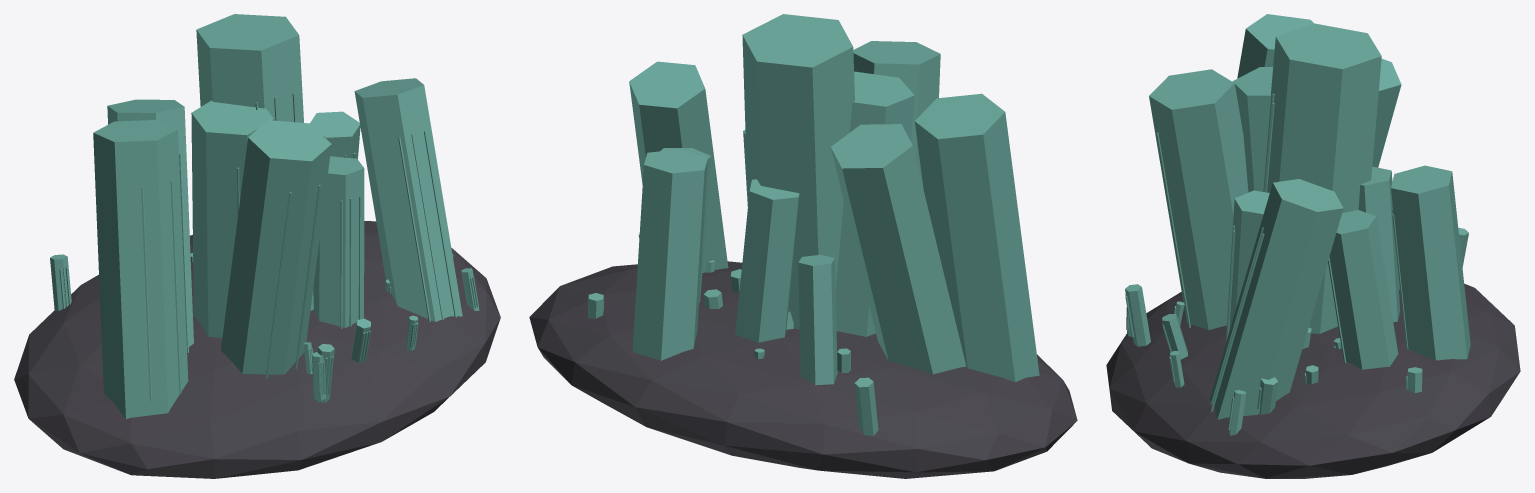
File: apatite.glb
The picture shows the model from 3 angles, left to right: view 1: azimuth 30°, elevation 25°; view 2: azimuth 150°, elevation 25°; view 3: azimuth 270°, elevation 25°; orthographic projection. The views are drawn at different scales.
Visible parts, largest first — view 1: Fluorapatite; view 2: Fluorapatite; view 3: Fluorapatite.
Boxes of the visible parts, x1,y1,x2,y2 form: Fluorapatite: (14, 14, 500, 478); Fluorapatite: (529, 14, 1077, 478); Fluorapatite: (1106, 14, 1520, 478).
Size of the model in its own units: 3.96 by 3.11 by 3.03.
